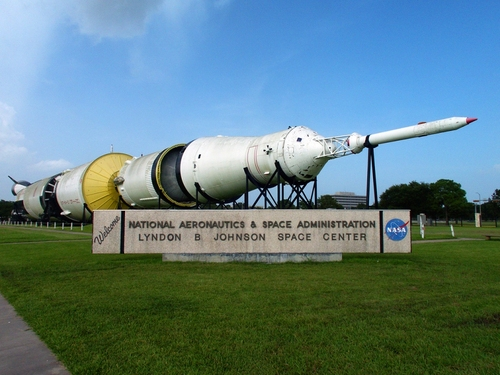NASA: (384, 214, 411, 243)
